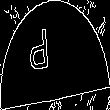P_S: (43, 28, 67, 82)
